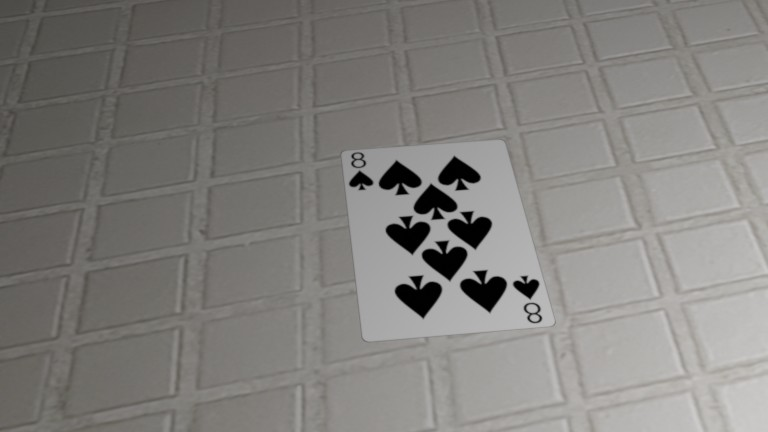8_of_spades: (202, 110, 221, 130), (137, 60, 151, 77)
